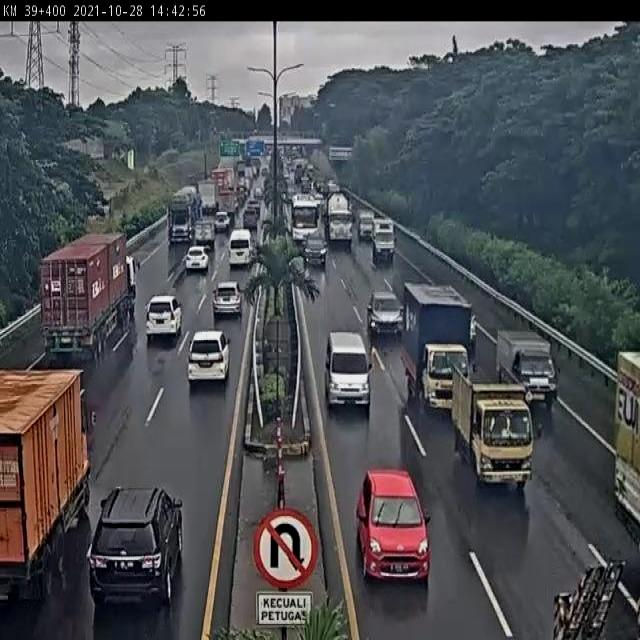Car: (356, 468, 430, 580), (187, 326, 234, 396), (144, 294, 183, 340), (210, 282, 244, 318), (186, 246, 210, 274)
Truck: (0, 370, 97, 601), (40, 232, 138, 362), (454, 360, 536, 493)
Van: (325, 330, 372, 412)
